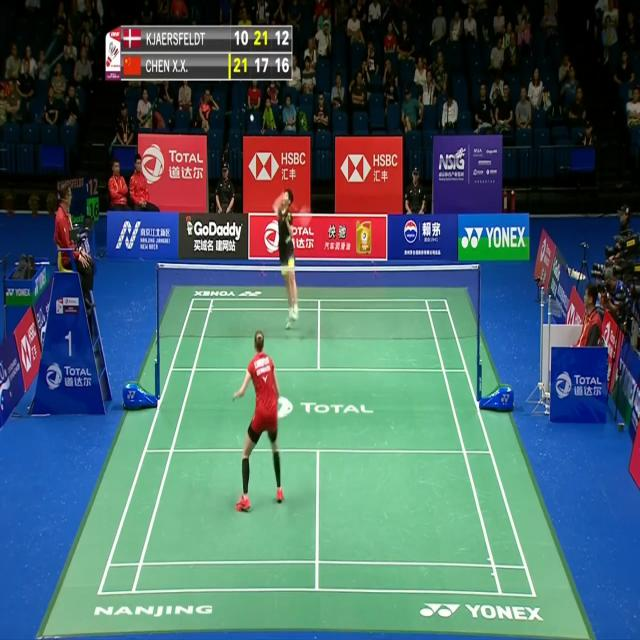Player1: (231, 322, 285, 513)
Player2: (270, 185, 305, 334)
